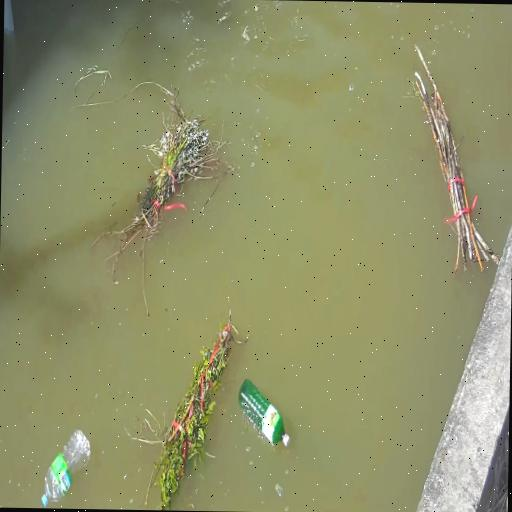plastic: (36, 424, 90, 508), (236, 380, 294, 454)
twig: (398, 48, 504, 265), (130, 316, 236, 512), (106, 96, 214, 272)
